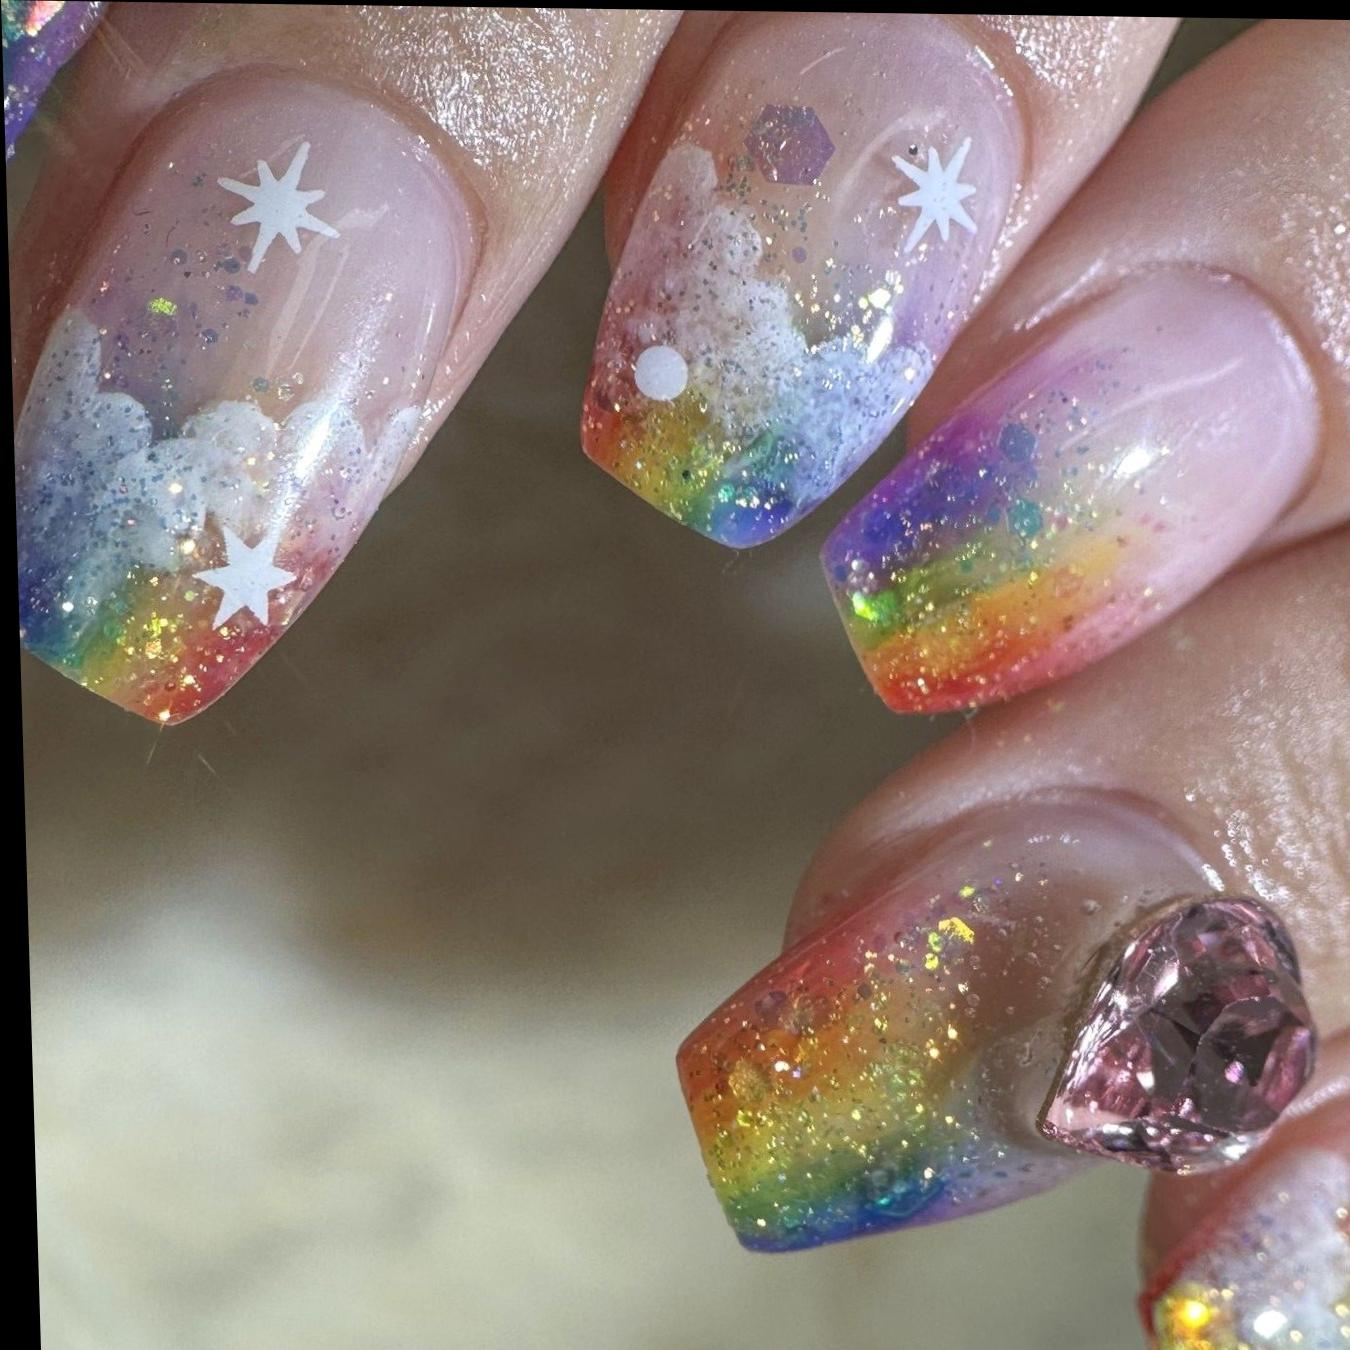nail: (1, 61, 504, 733), (677, 799, 1317, 1251), (565, 9, 1045, 556), (809, 253, 1341, 723), (1129, 974, 1350, 1350)
